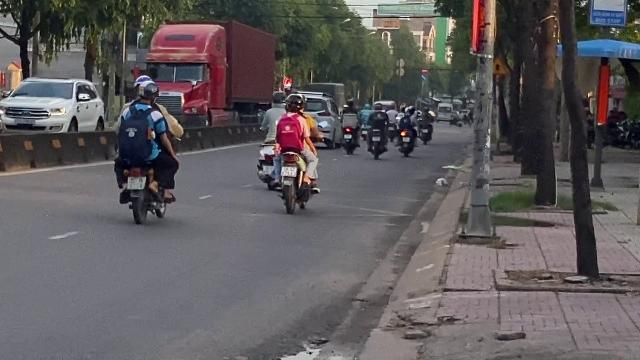helmet: (136, 82, 158, 106), (284, 93, 304, 113), (133, 74, 155, 90)
licenseplate: (127, 178, 145, 190), (281, 167, 297, 177)
motorcyclist: (110, 73, 182, 223), (270, 91, 322, 213)
